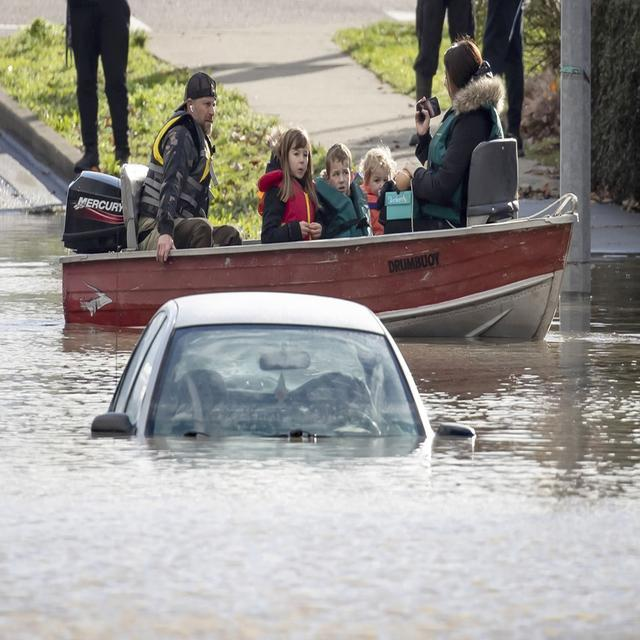Car-RiskLevel3: (91, 292, 482, 465)
Person-RiskLevel3: (387, 38, 511, 225), (128, 68, 242, 259), (253, 124, 314, 252), (313, 140, 379, 245)
